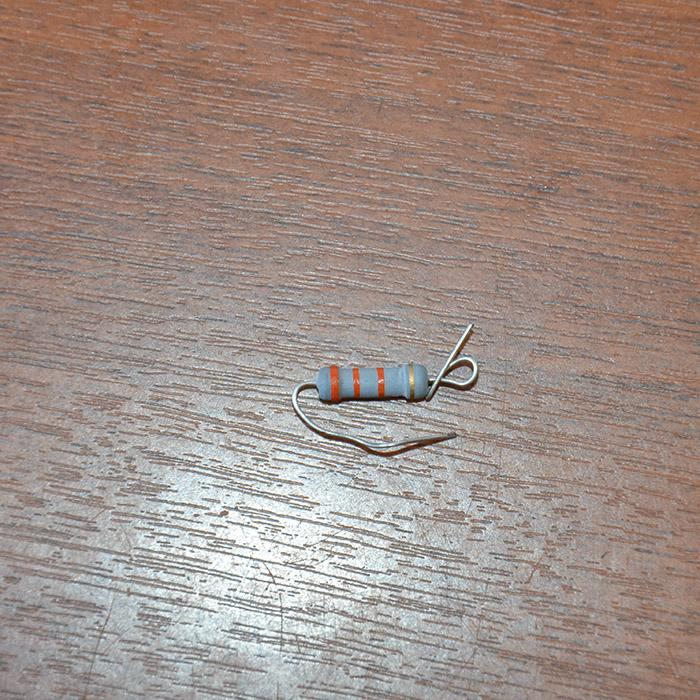resistor: (315, 362, 428, 402)
